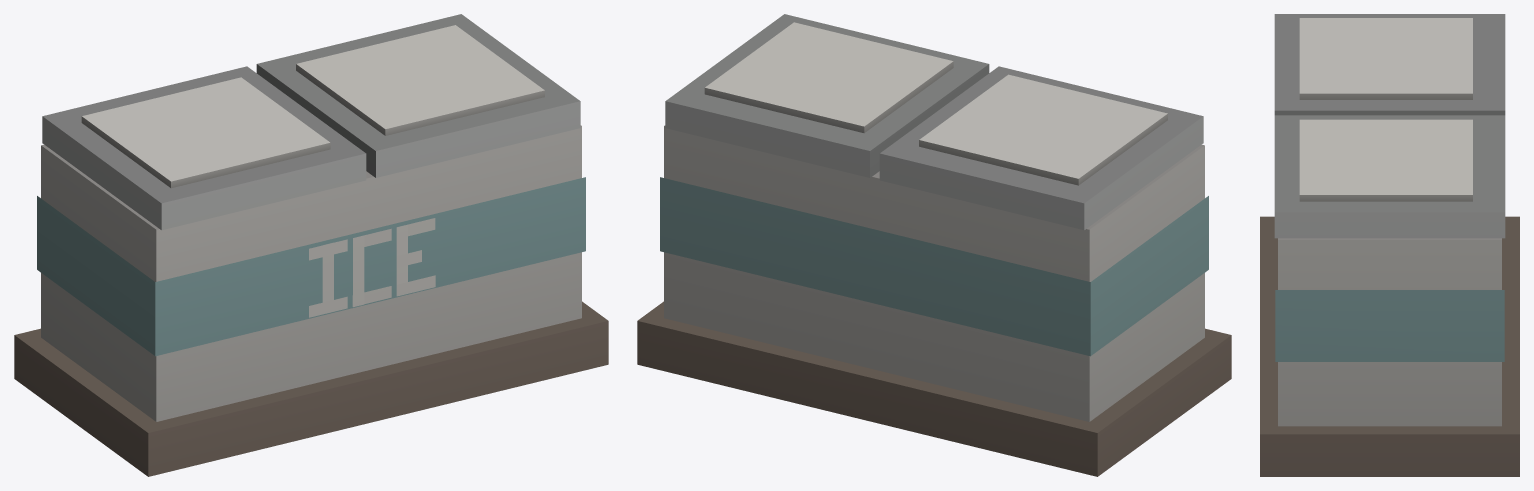
Rendered from ice.lod1.glb.
3 renders of one model, left to right at view 1: azimuth 30°, elevation 25°; view 2: azimuth 150°, elevation 25°; view 3: azimuth 270°, elevation 25°, orthographic. The views are drawn at different scales.
Bounding box in the file's own units: 1.43 × 0.8 × 0.72.
